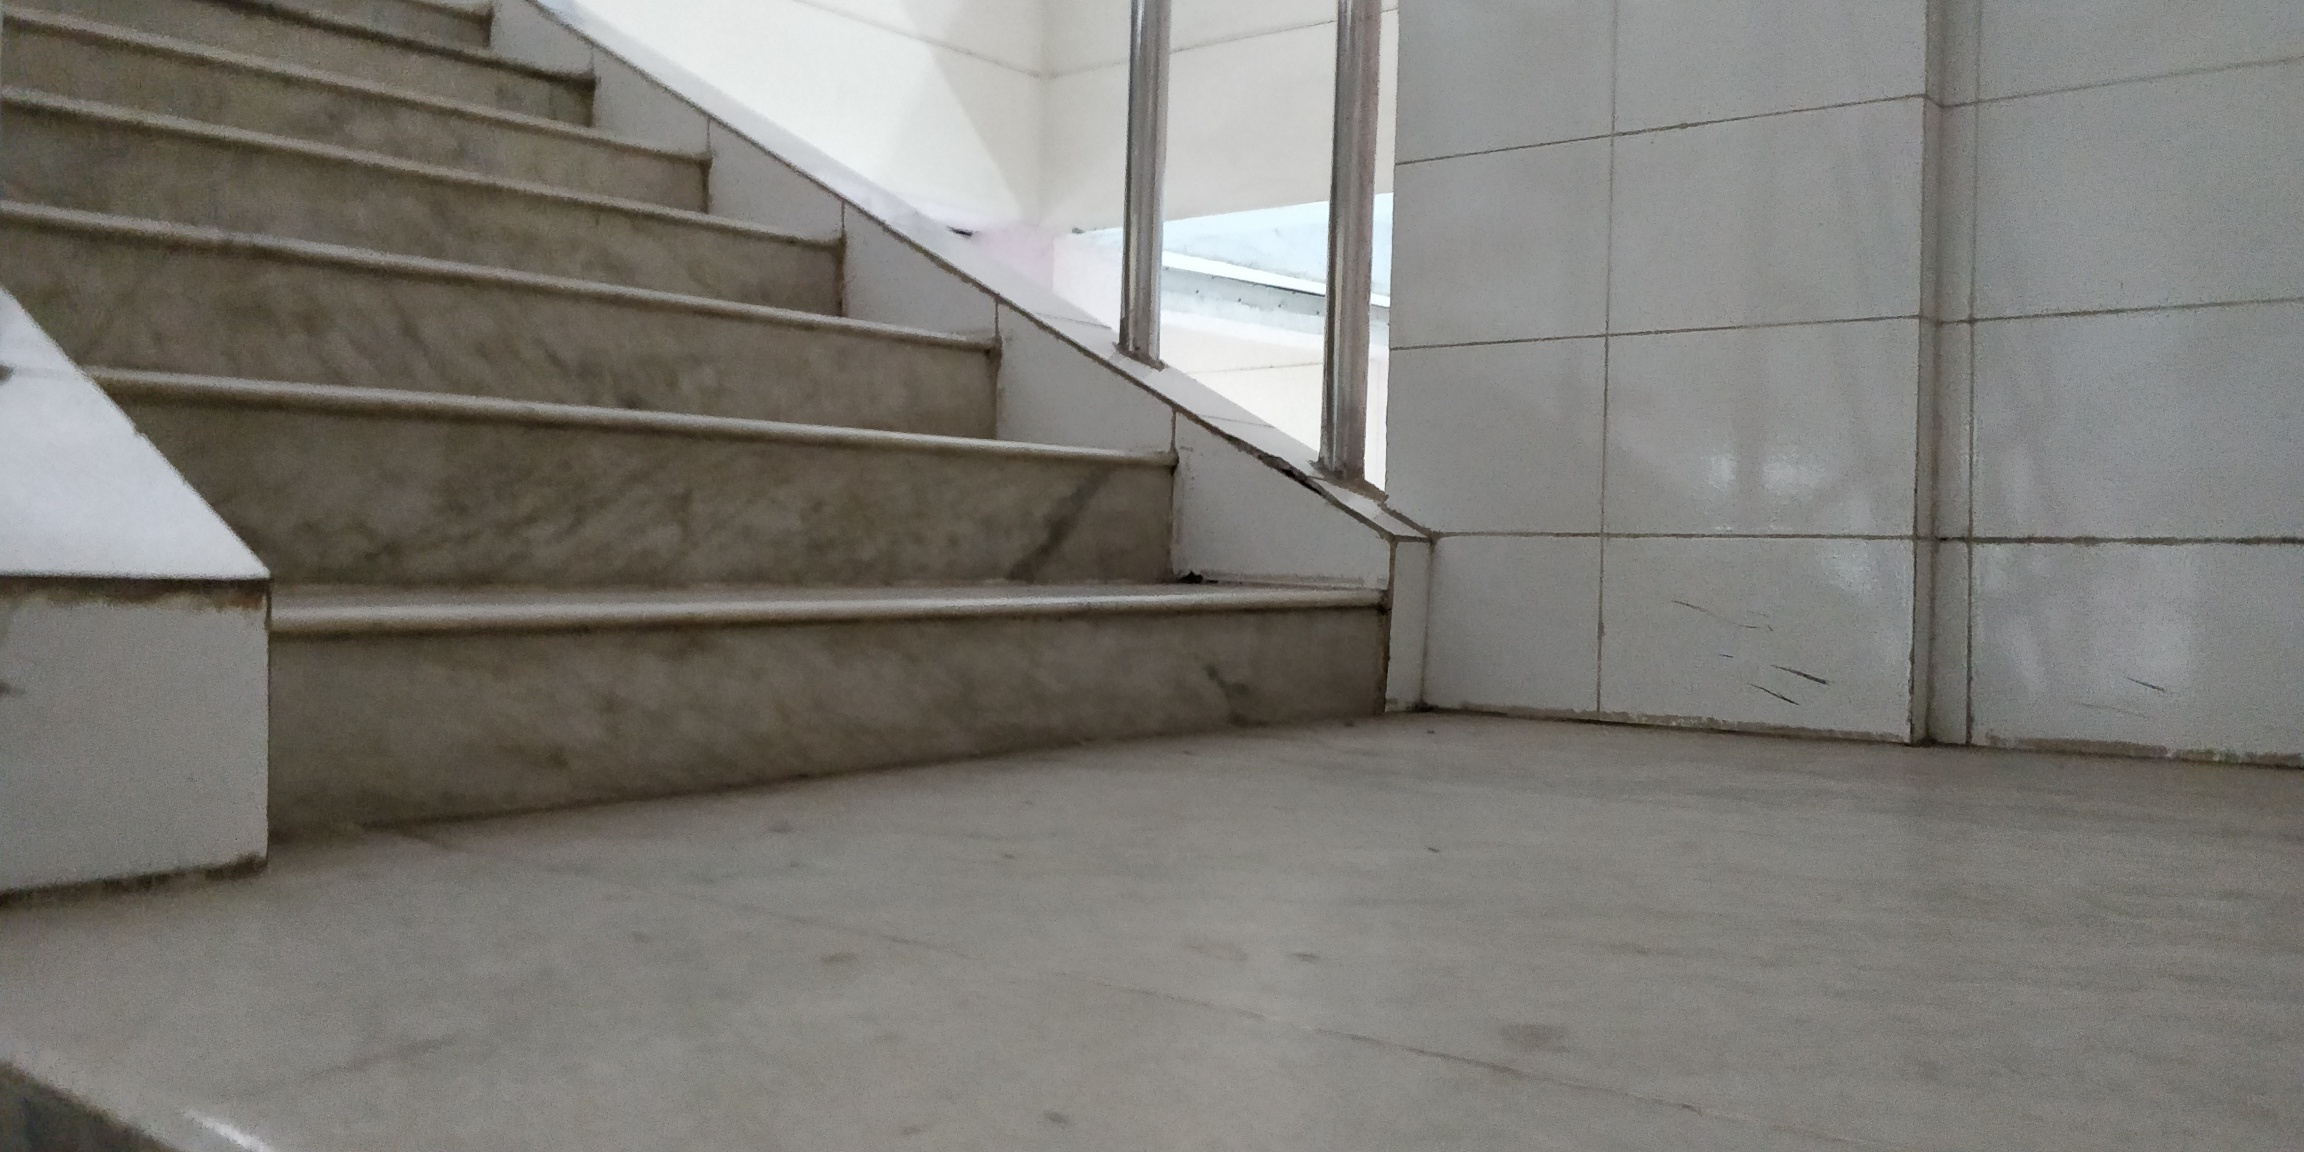stairs_up: (7, 3, 1441, 830)
